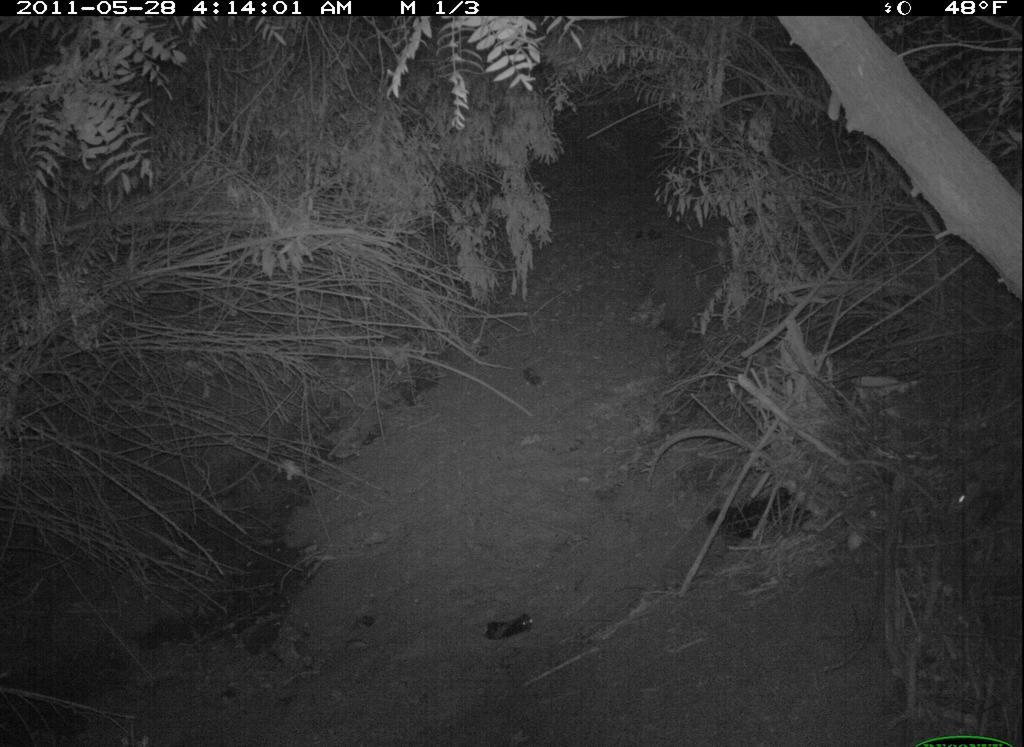opossum: (940, 445, 1022, 552)
